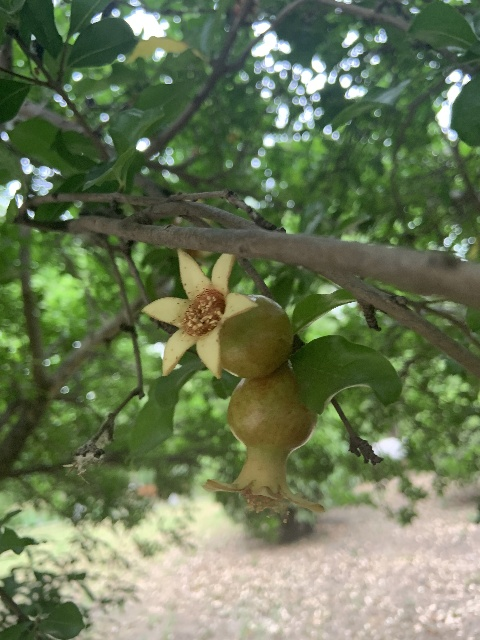early-fruit: (140, 249, 291, 380), (201, 367, 326, 521)
